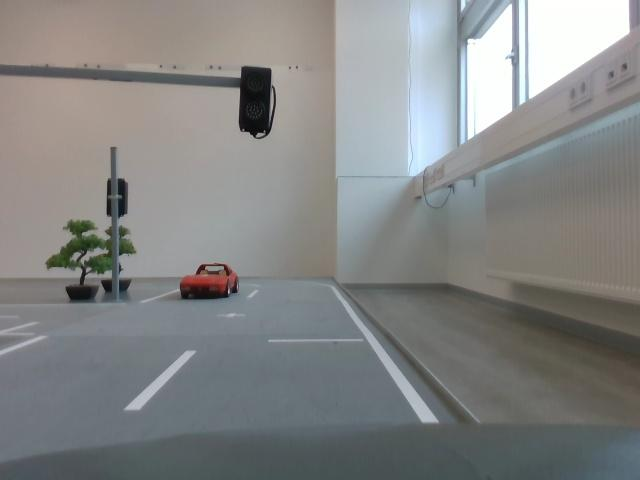car: (174, 257, 244, 302)
potted plant: (47, 217, 112, 308), (103, 223, 144, 299)
traffic light: (236, 61, 280, 147), (104, 178, 135, 221)
